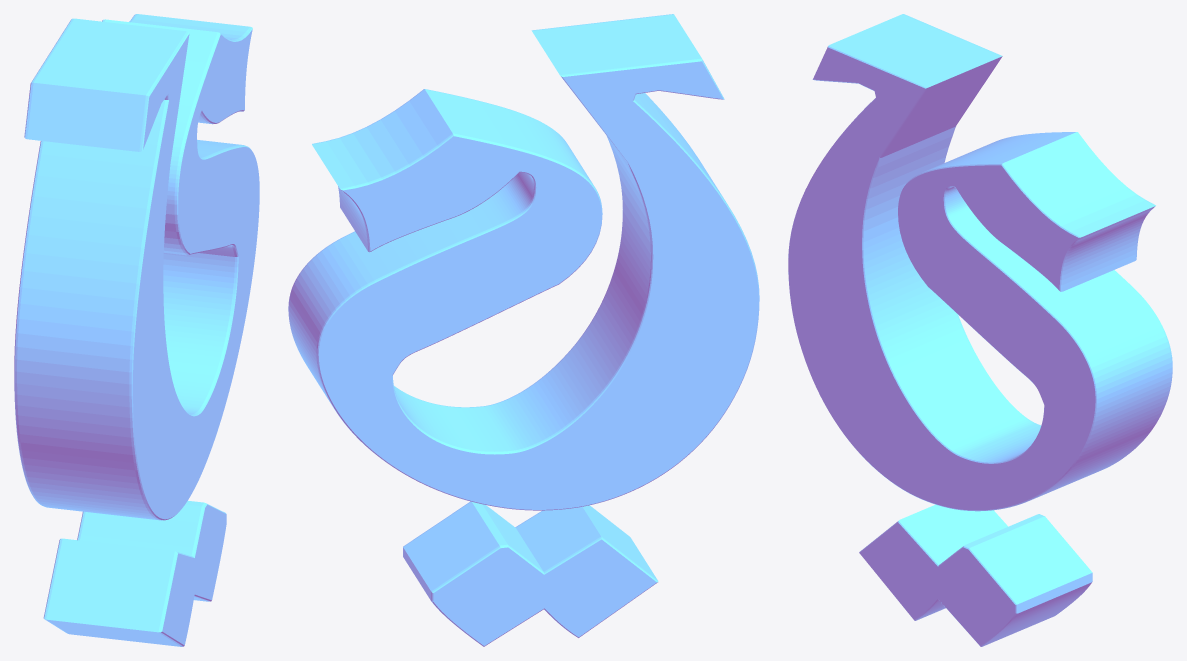
3 views of the same model, side by side, from view 1: azimuth 30°, elevation 25°; view 2: azimuth 150°, elevation 25°; view 3: azimuth 270°, elevation 25° (orthographic). The views are drawn at different scales.
Visible parts, largest first — view 1: 911fc68f-2a72-4688-9952-a24b603eb5f3; view 2: 911fc68f-2a72-4688-9952-a24b603eb5f3; view 3: 911fc68f-2a72-4688-9952-a24b603eb5f3.
Part boxes in pixels (bbox=[...]): 911fc68f-2a72-4688-9952-a24b603eb5f3: bbox=[14, 14, 259, 646]; 911fc68f-2a72-4688-9952-a24b603eb5f3: bbox=[288, 14, 759, 646]; 911fc68f-2a72-4688-9952-a24b603eb5f3: bbox=[788, 14, 1172, 646].
Size of the model in its own units: 20.89 by 32.32 by 20.89.
